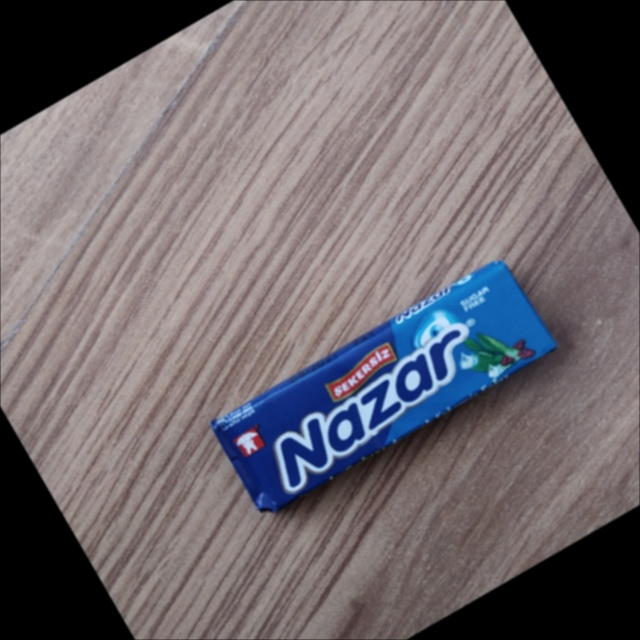nazar_damla_sakizli_sakiz: (212, 261, 555, 510)
